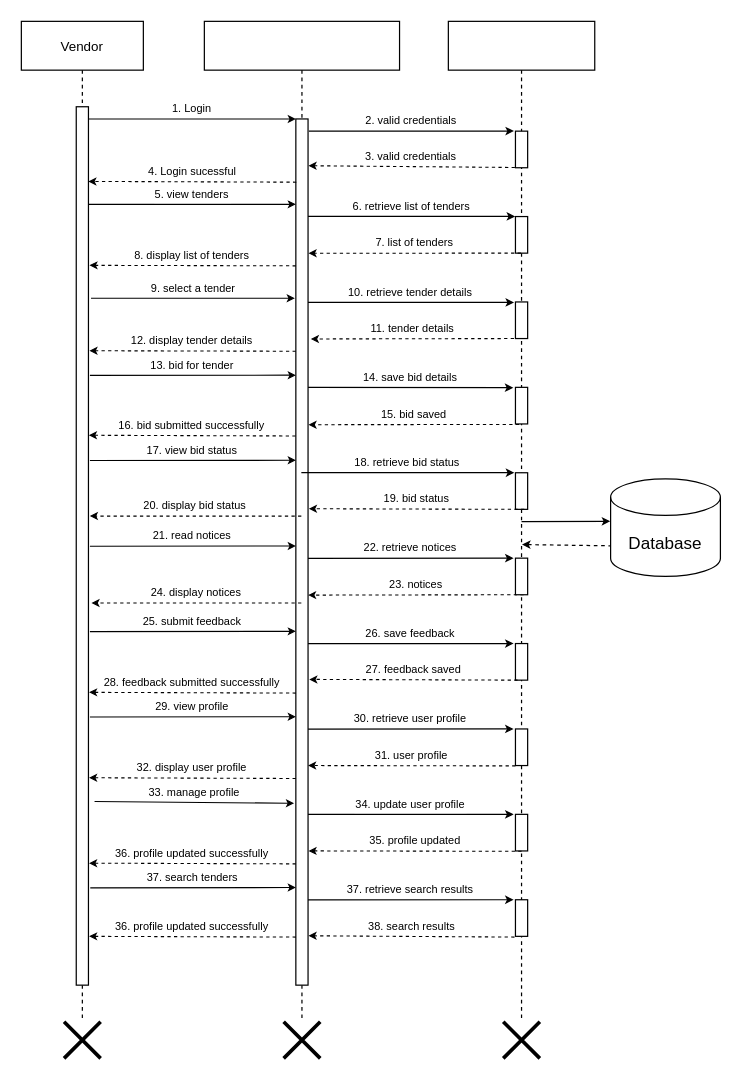
The diagram is 742 pixels wide and 1081 high, and some of its shapes have lost their labels. The box of each missing label's shape, as (x1, y1, x2, y2) in pixels:
Database Manager: (447, 20, 595, 1022)
Tender Management System: (203, 20, 400, 1022)
